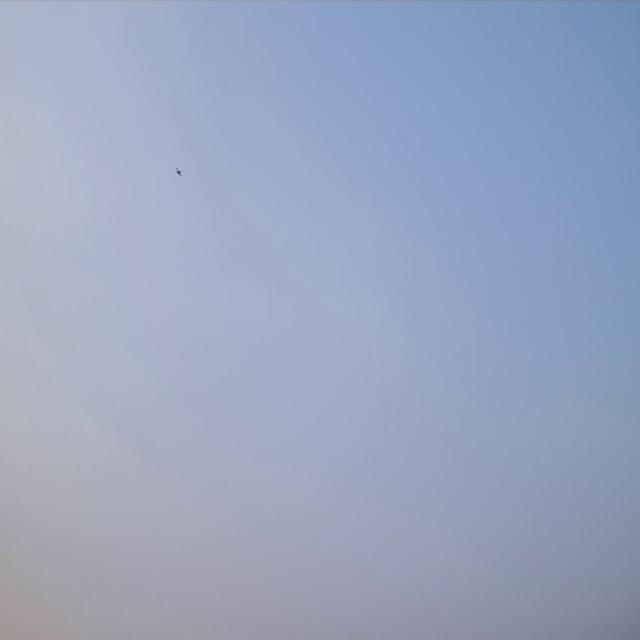UAV: (177, 168, 180, 174)
